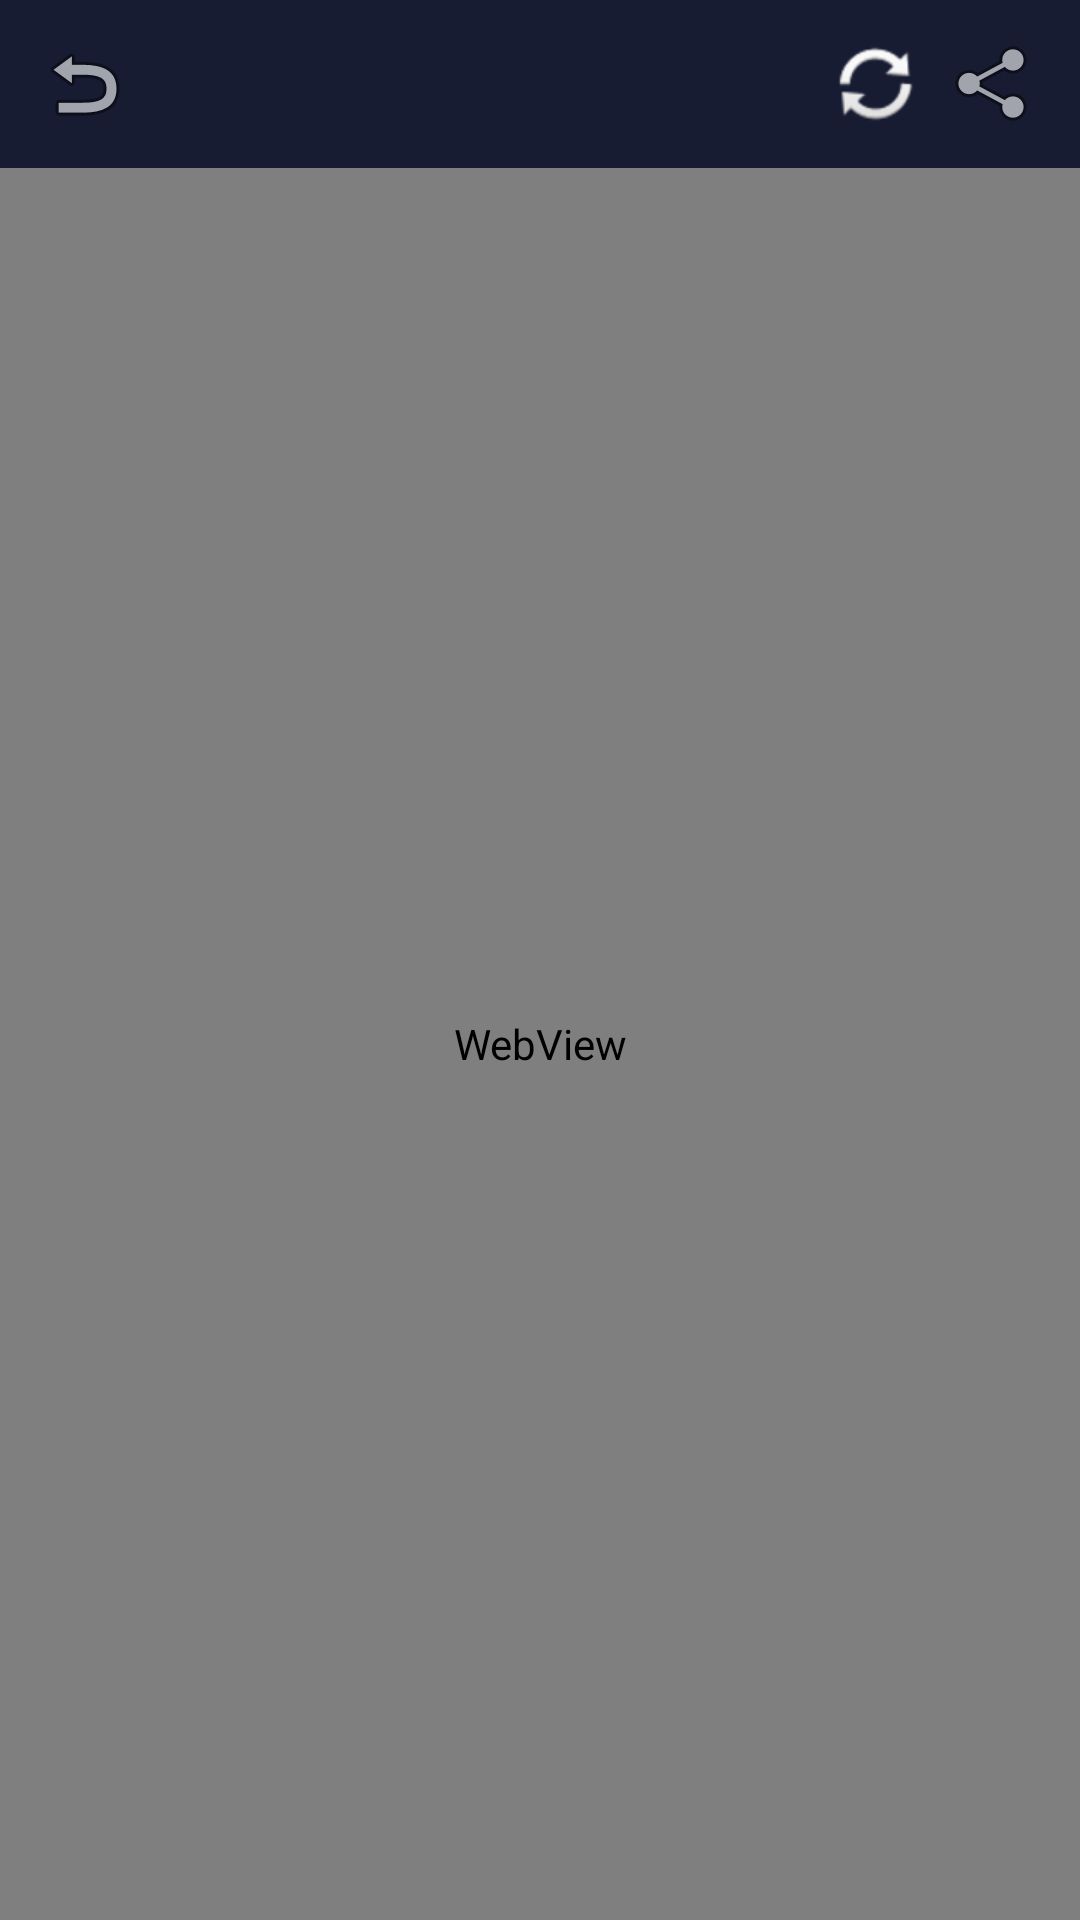

Screen size 1080x1920. Icon name, then its box in pixels as (x1, y1, x2, y2):
刷新: (839, 48, 912, 120)
返回: (53, 56, 118, 114)
